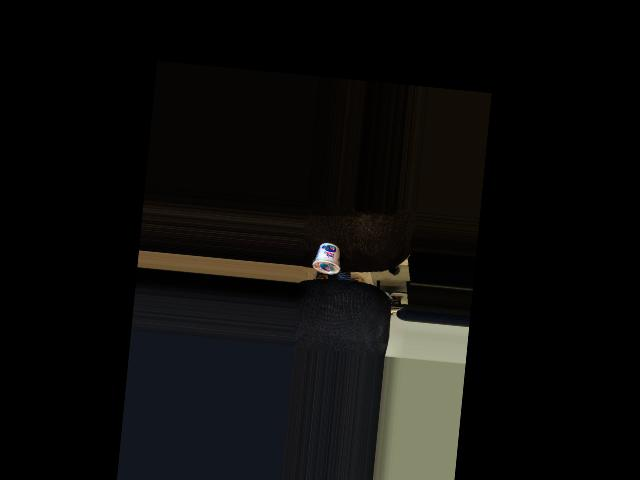cotage: (311, 240, 344, 275)
